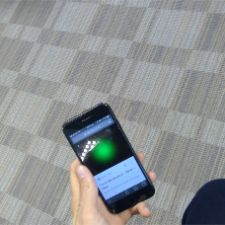focus: (88, 136, 115, 164)
